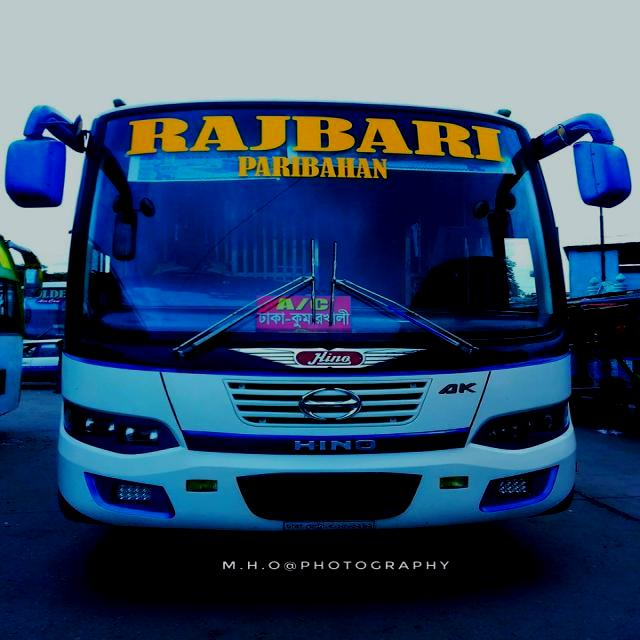bus: (5, 93, 633, 535)
